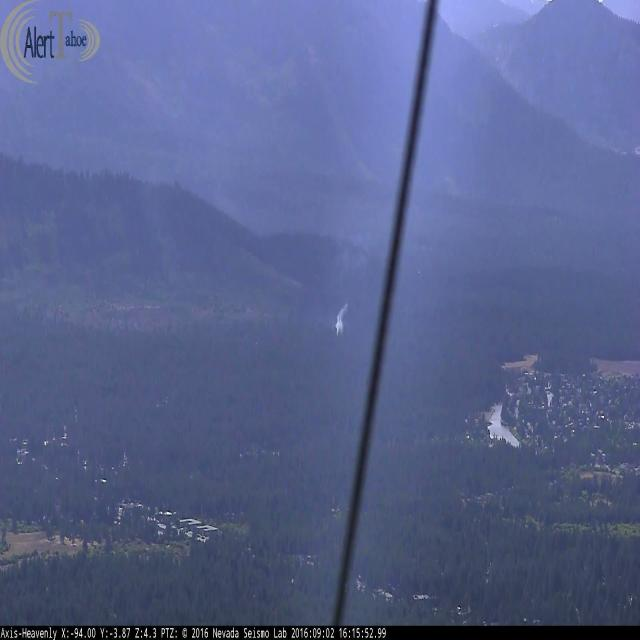smoke: (332, 302, 349, 337)
